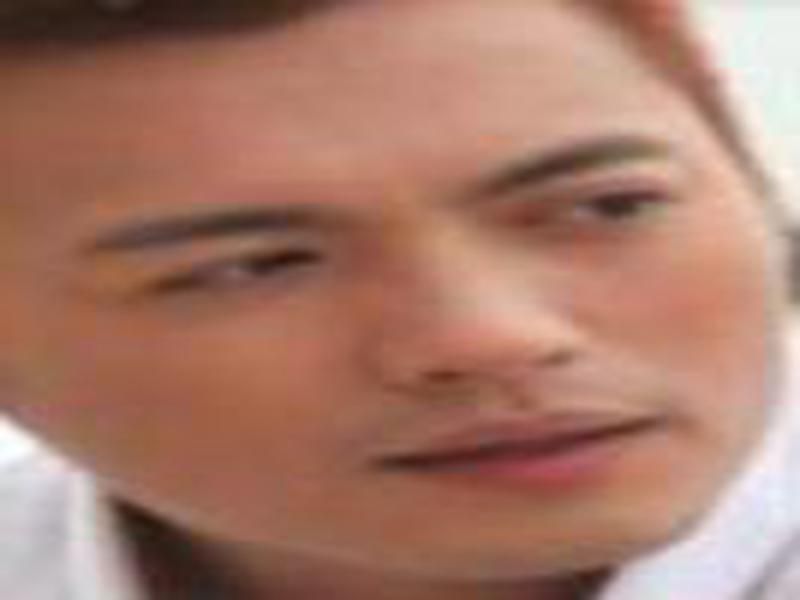without_mask: (8, 21, 782, 555)
